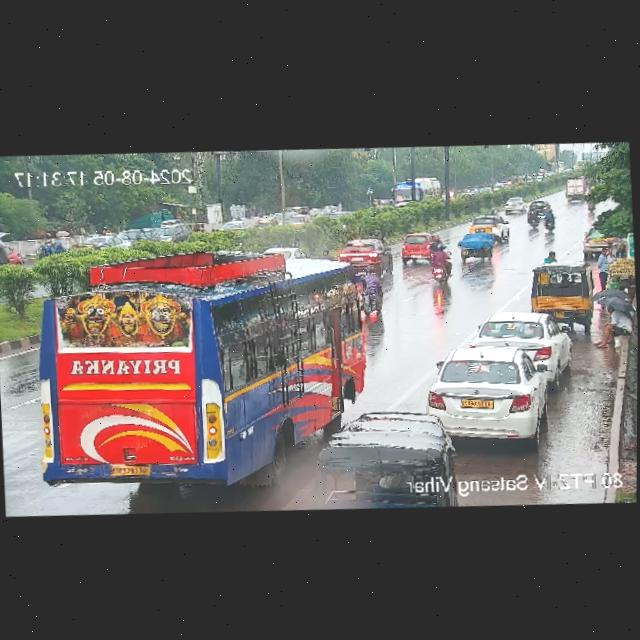bus: (29, 242, 381, 480), (391, 173, 443, 209)
car: (318, 412, 446, 513), (426, 343, 549, 444), (471, 311, 566, 379), (527, 262, 593, 324), (336, 237, 391, 276), (463, 224, 497, 264), (399, 233, 434, 267), (581, 228, 619, 255), (85, 232, 128, 252), (485, 211, 509, 243), (153, 221, 189, 242), (120, 227, 153, 243), (502, 197, 528, 215), (529, 201, 550, 212)
motorcycle: (428, 245, 455, 284), (37, 231, 58, 256), (542, 207, 557, 231), (528, 207, 539, 230), (431, 236, 442, 249)
person: (595, 305, 631, 351), (355, 266, 387, 314), (596, 247, 611, 287), (545, 251, 560, 263), (608, 241, 616, 259)
truck: (562, 179, 587, 206)
